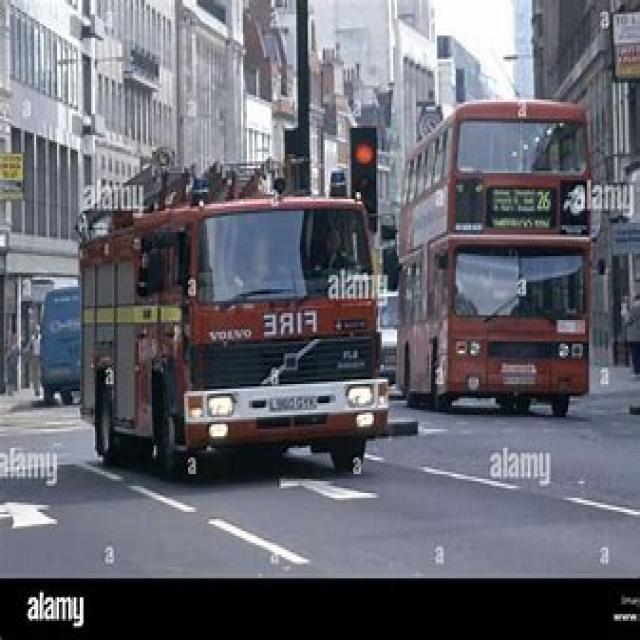Fire-engine: (73, 154, 390, 479)
